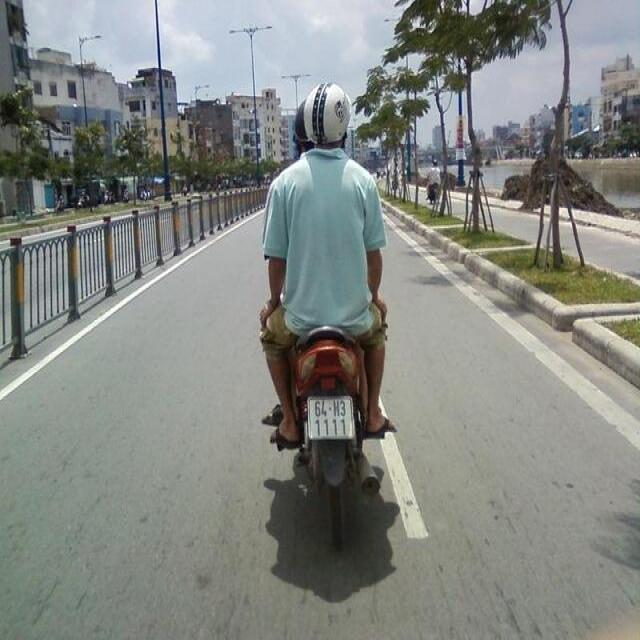motorcycle: (270, 311, 398, 545)
plate: (301, 392, 359, 445)
